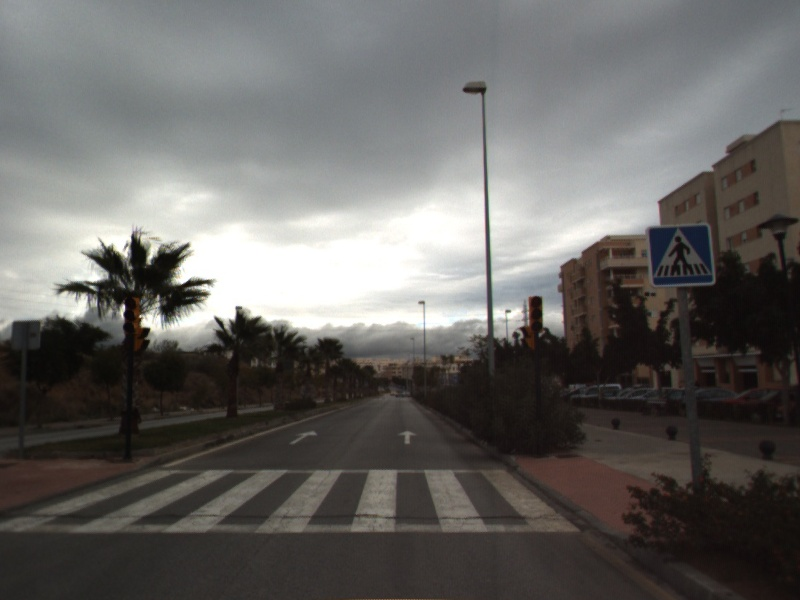STRAIGHT: (287, 428, 320, 446), (396, 428, 419, 446)
